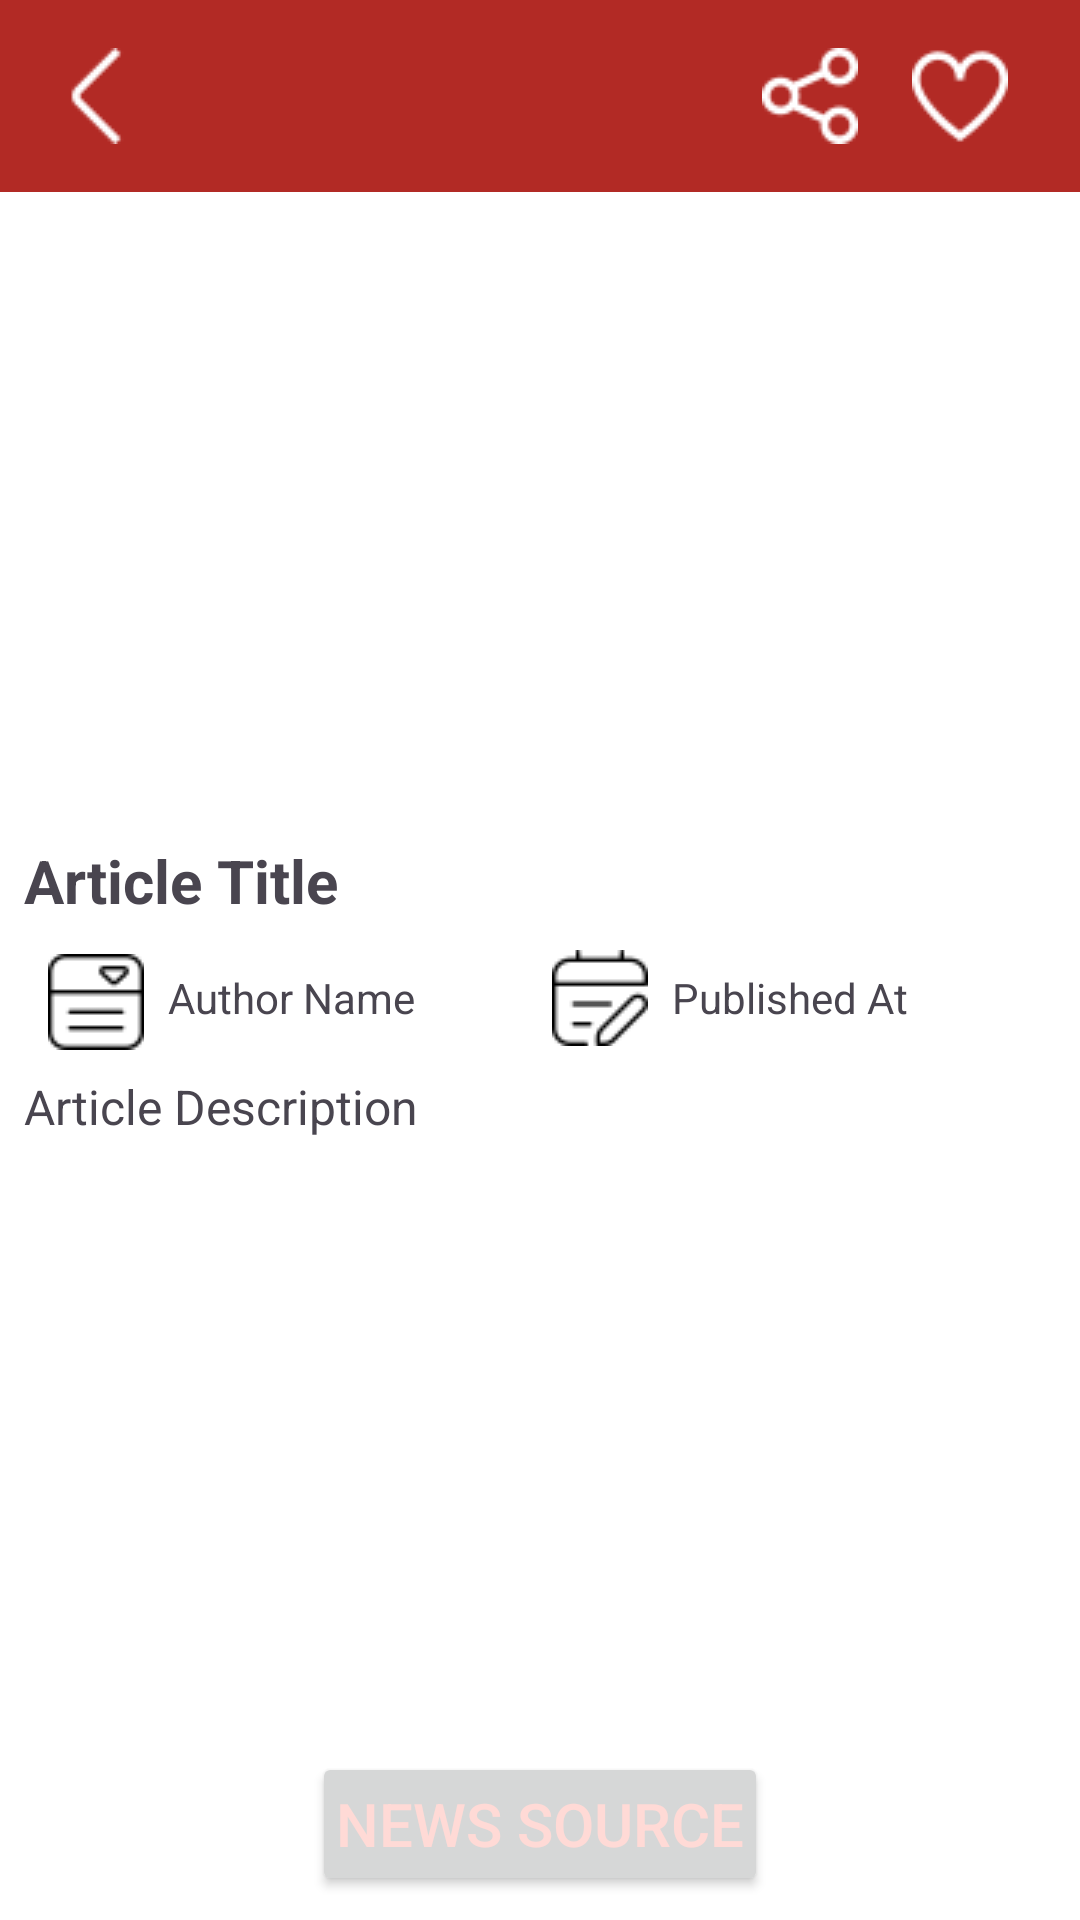

Icons on this 1080 × 1920 Android screen, each with its box as (x1, y1, x2, y2):
add favorite: (912, 50, 1008, 142)
back: (71, 48, 121, 144)
publish date: (552, 950, 648, 1046)
share: (762, 48, 858, 144)
